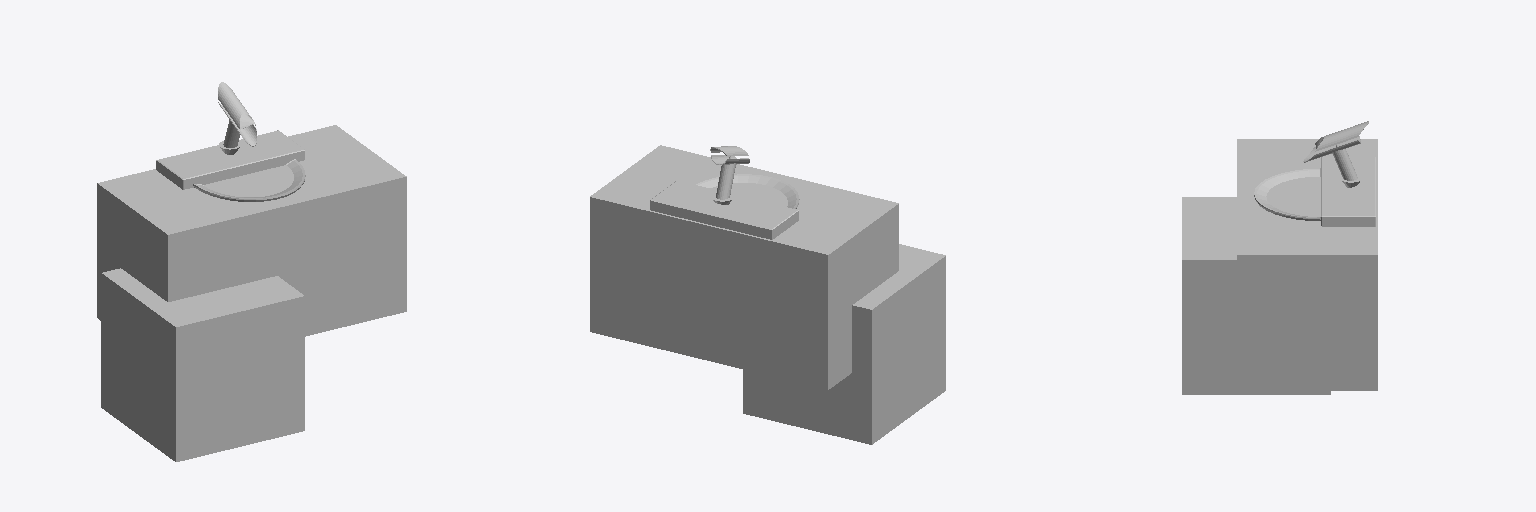
File: pia.obj
3 renders of one model, left to right at view 1: azimuth 30°, elevation 25°; view 2: azimuth 150°, elevation 25°; view 3: azimuth 270°, elevation 25°, orthographic.
Parts seen in each view (by area): view 1: Cubo, Cube, sink, knob; view 2: Cubo, Cube, sink, fawcetneck; view 3: Cubo, Cube, sink, knob, fawcetneck.
Part boxes in pixels (left/top/right/bottom): Cubo: left=97, top=125, right=406, bottom=336; Cube: left=101, top=268, right=304, bottom=461; sink: left=156, top=130, right=305, bottom=201; knob: left=218, top=82, right=255, bottom=129; Cubo: left=590, top=145, right=898, bottom=389; Cube: left=743, top=244, right=945, bottom=444; sink: left=650, top=174, right=799, bottom=239; fawcetneck: left=711, top=163, right=735, bottom=204; Cubo: left=1237, top=139, right=1377, bottom=390; Cube: left=1182, top=197, right=1330, bottom=394; sink: left=1254, top=157, right=1375, bottom=226; knob: left=1315, top=121, right=1368, bottom=151; fawcetneck: left=1332, top=149, right=1361, bottom=187.
Bounding box in the file's own units: 4 × 4.12 × 2.64.